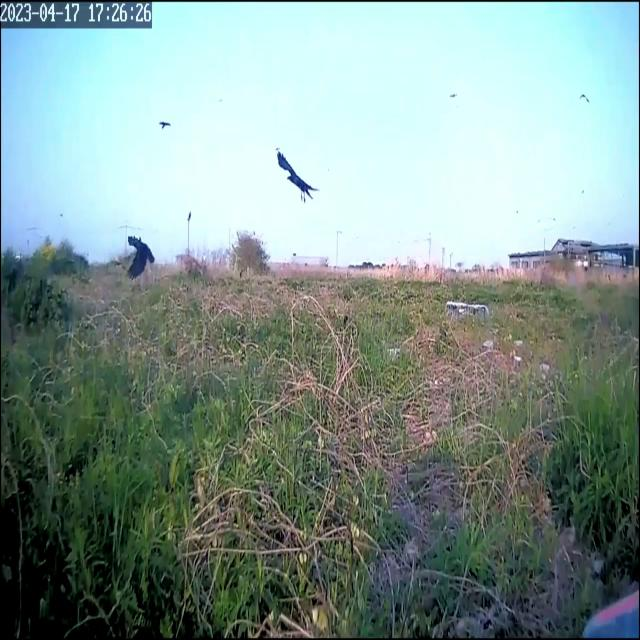bird: (274, 124, 320, 226), (158, 111, 171, 140), (578, 85, 590, 112), (449, 85, 458, 106)
